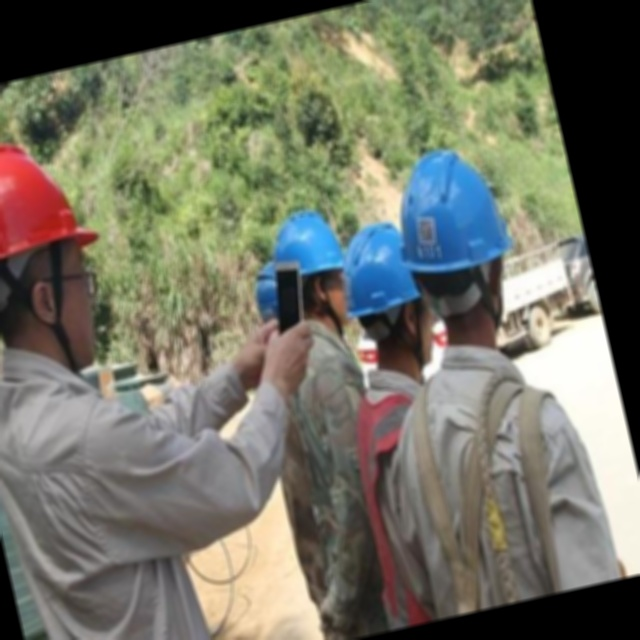Con_Casco: (0, 125, 124, 374)
